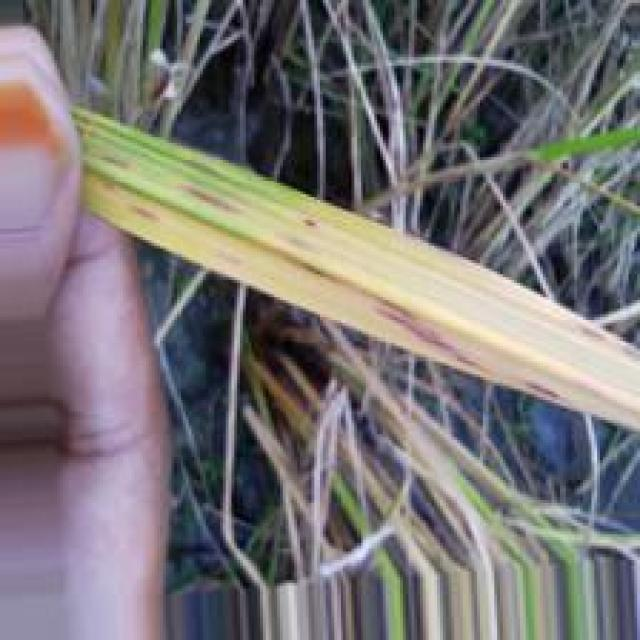Narrow_Brown_Leaf_Spot: (82, 172, 637, 429)
